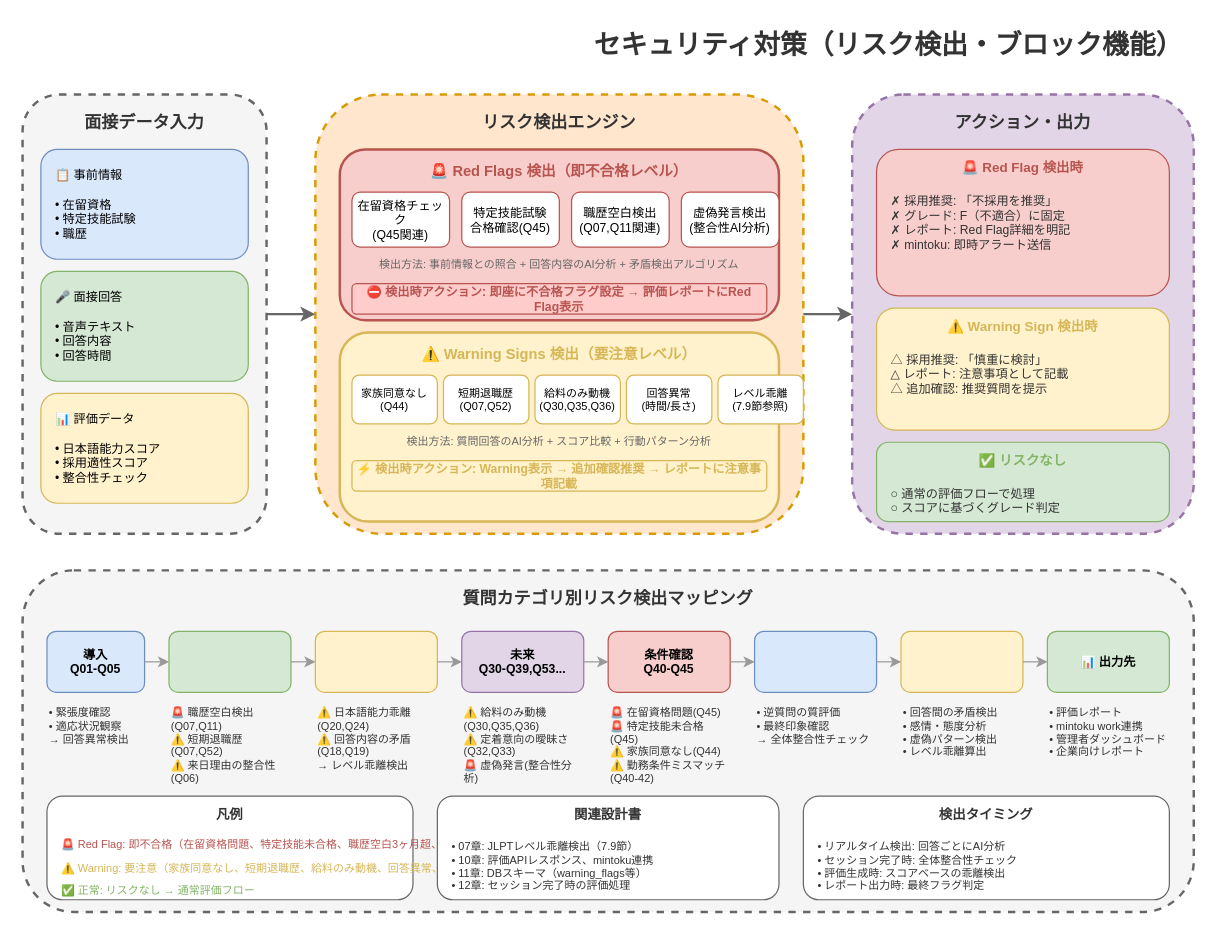
This 1215x933 diagram has some shape labels left out. The shapes that lost their labels are listed below. From the top down, each one's centre as x and y in pixels, then its label:
At (229,661): "過去 Q06-Q17,Q51...".
At (375,661): "現在 Q18-Q29,Q54...".
At (815,661): "クロージング Q46-Q50".
At (961,661): "🤖 AI統合分析".
